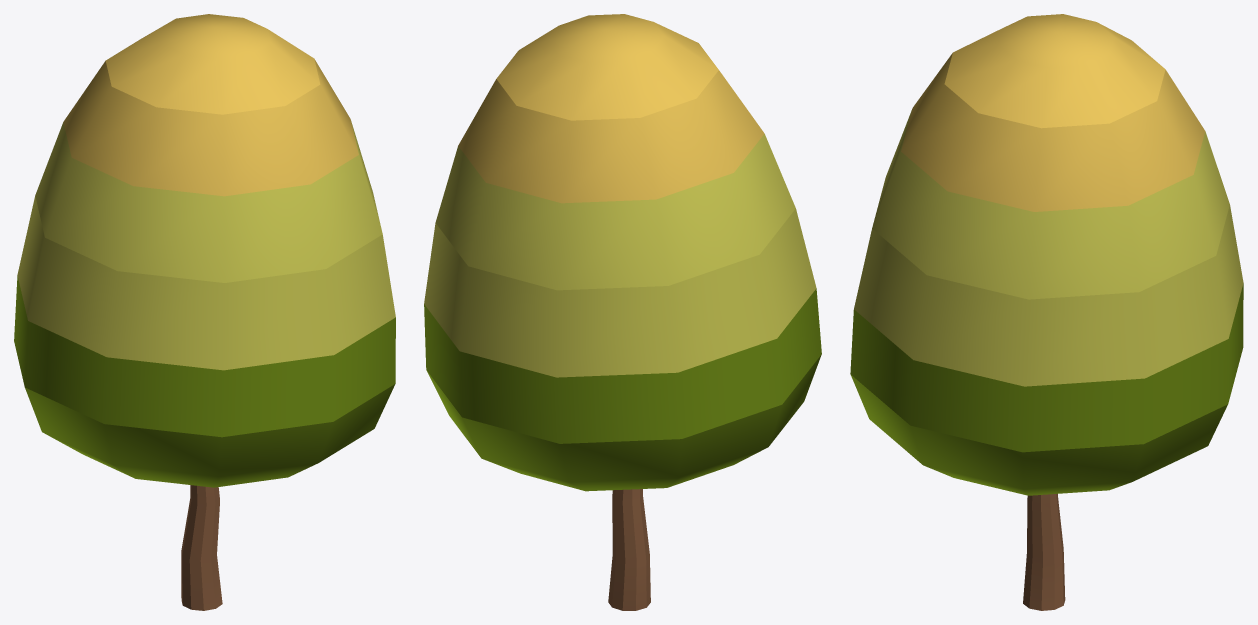
File: bush_02_low.fbx
3 renders of one model, left to right at view 1: azimuth 30°, elevation 25°; view 2: azimuth 150°, elevation 25°; view 3: azimuth 270°, elevation 25°, orthographic. The views are drawn at different scales.
Parts seen in each view (by area): view 1: bush_02_lodo; view 2: bush_02_lodo; view 3: bush_02_lodo.
Boxes of the visible parts, bbox=[...] form: bush_02_lodo: bbox=[14, 14, 395, 610]; bush_02_lodo: bbox=[424, 14, 821, 610]; bush_02_lodo: bbox=[850, 14, 1243, 610].
Bounding box in the file's own units: 120 × 192 × 118.
